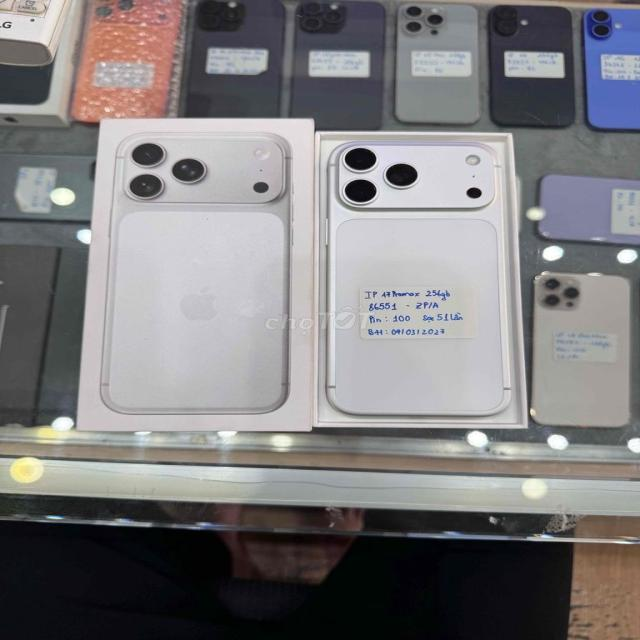gen_17: (325, 132, 521, 434)
